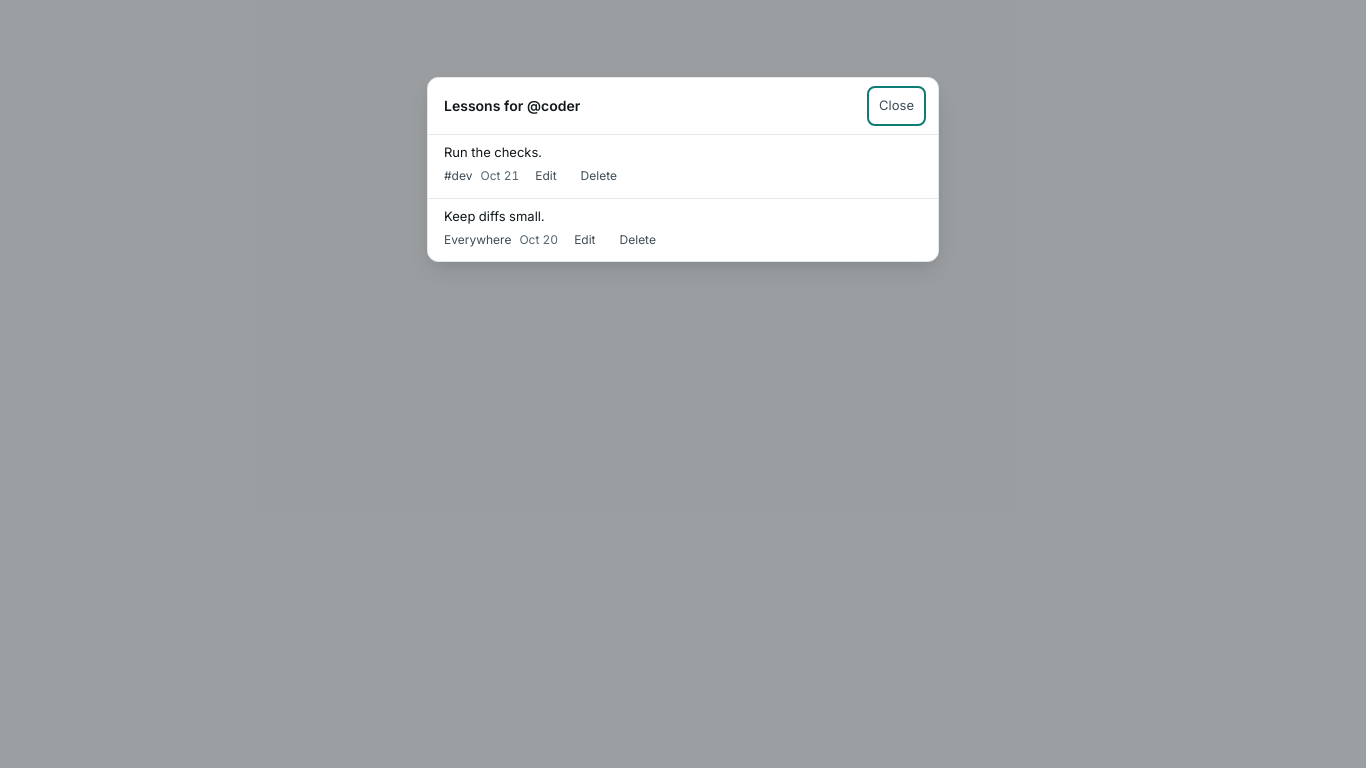
it: LessonsDialog › edits a lesson in place with Enter and Escape ends the edit only
Click the button "Edit" next to "Oct 21" at (546, 176), box x1=527 y1=162 x2=565 y2=190
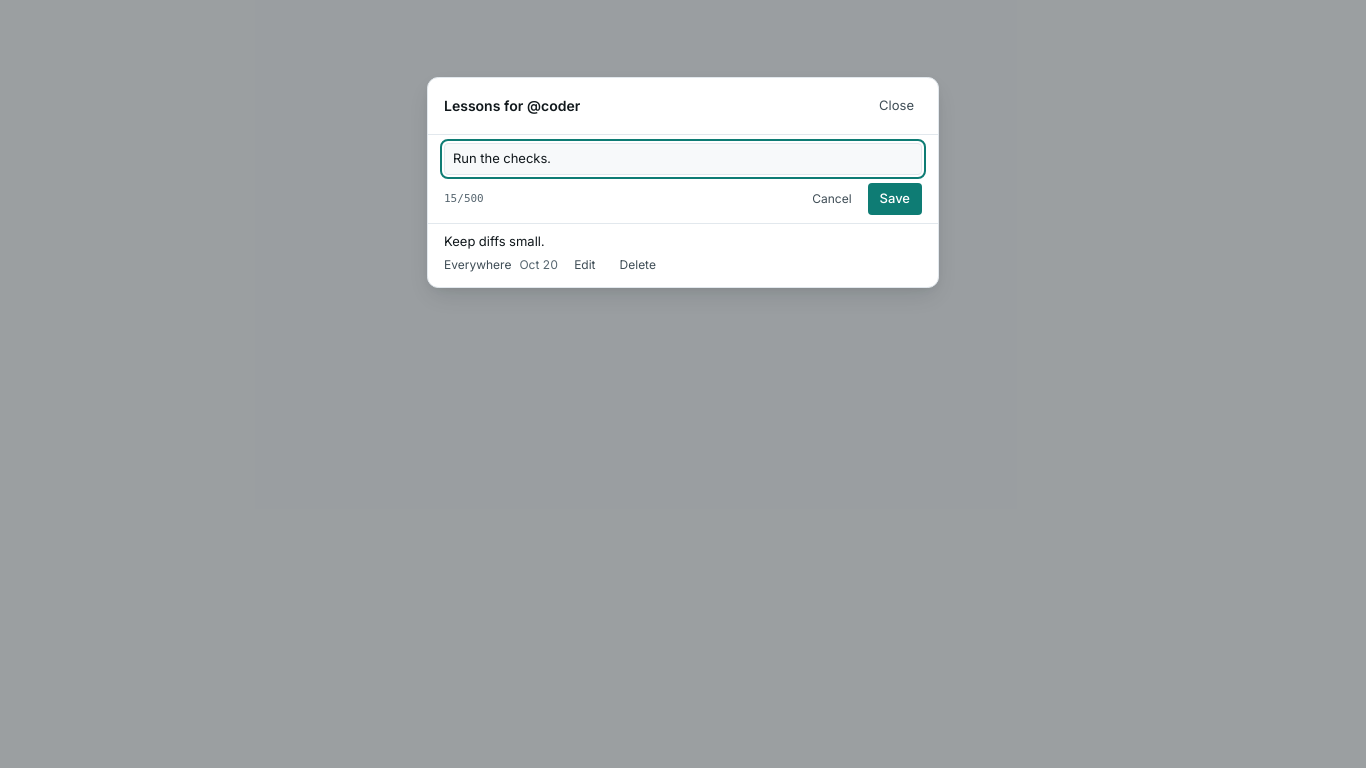
Result: the field named "Lesson text" holds "Run the checks." at x1=444 y1=143 x2=922 y2=175
Press Escape
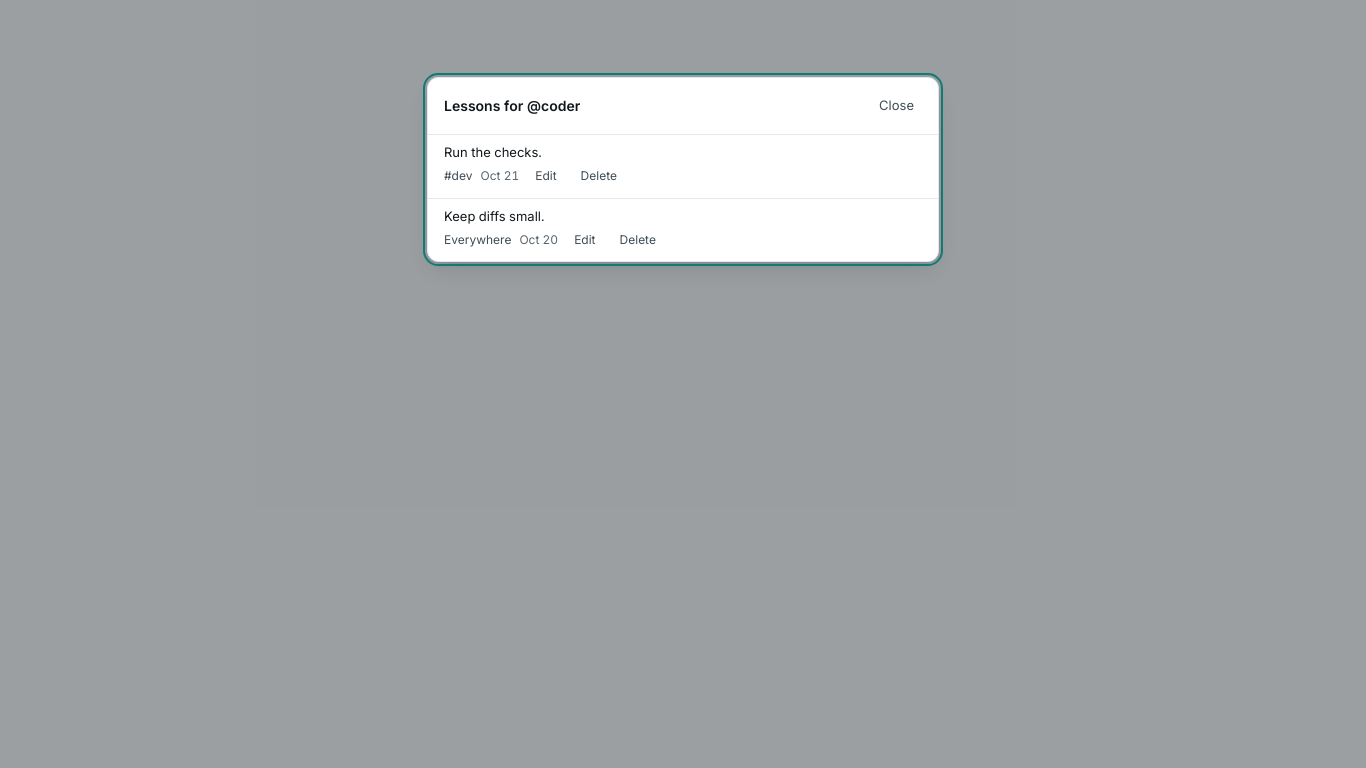
Expected: the dialog is shown, x1=427 y1=77 x2=939 y2=262
Click the button "Edit" next to "Oct 21" at (546, 176), box x1=527 y1=162 x2=565 y2=190
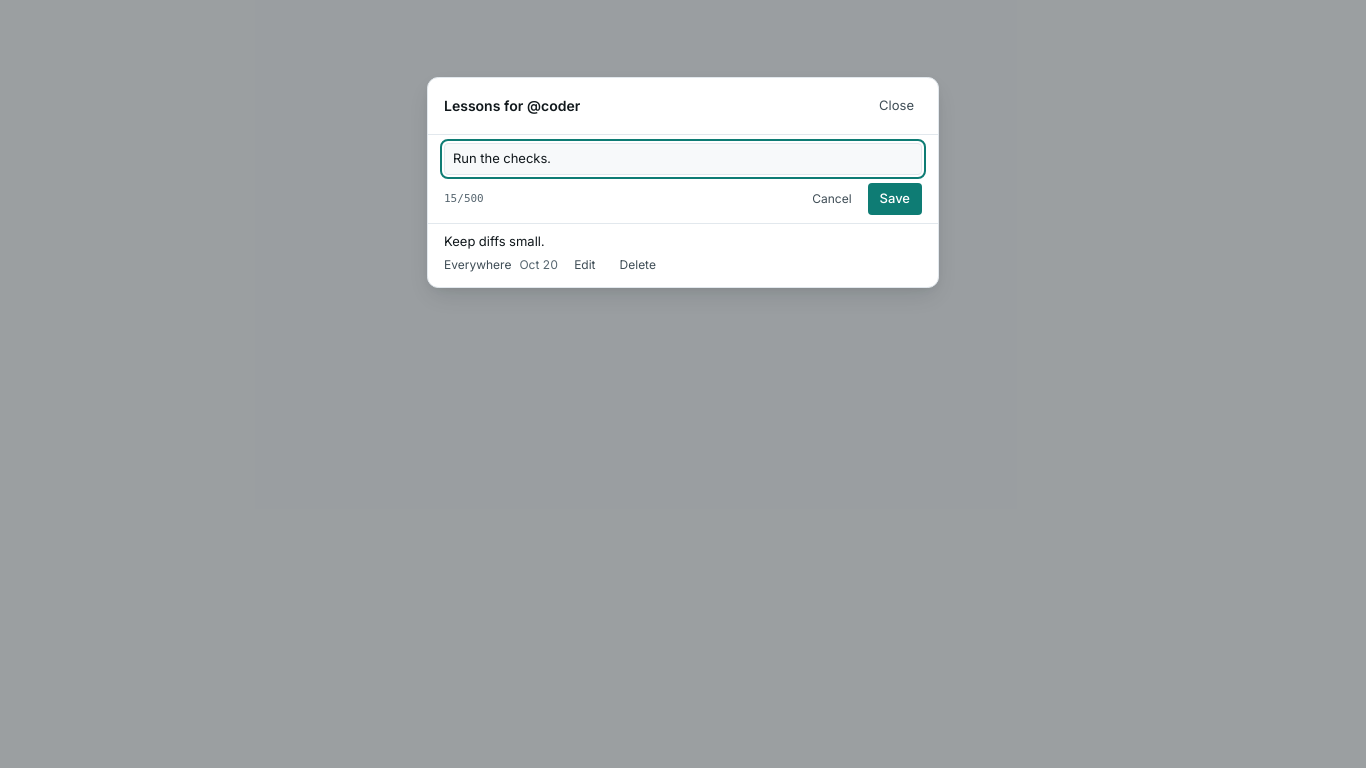
Replace the text in the field named "Lesson text" with "Run all the checks." at (683, 159), box x1=444 y1=143 x2=922 y2=175
Then press Enter
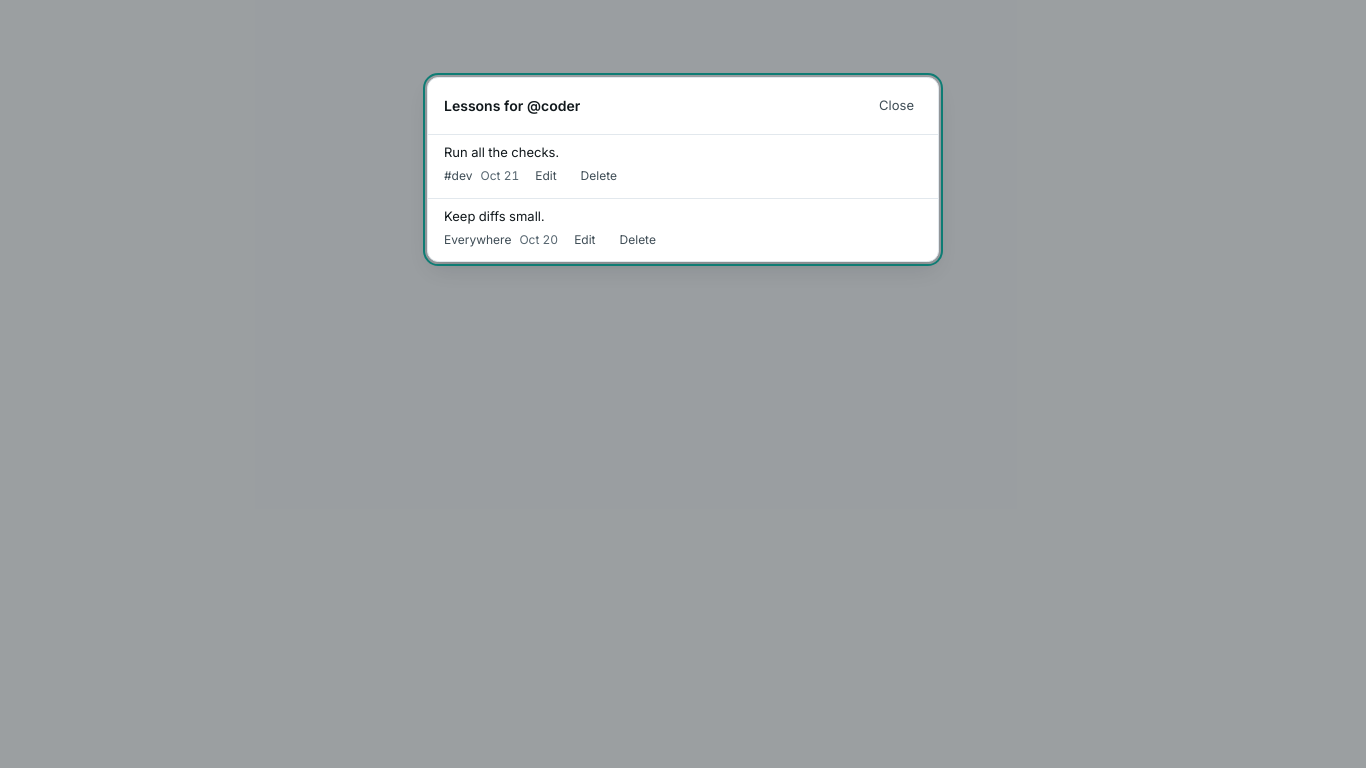
Result: the text "Run all the checks." is shown at x1=444 y1=144 x2=559 y2=160
